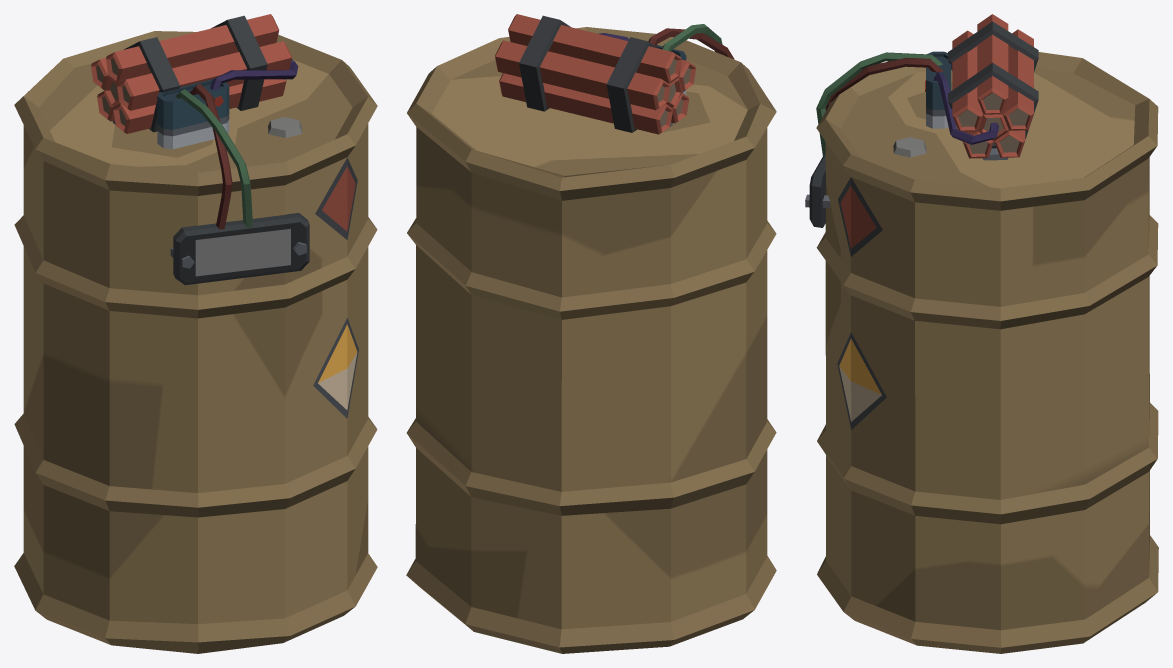
File: SM_Prop_Bomb_Large_01.fbx
3 views of the same model, side by side, from view 1: azimuth 30°, elevation 25°; view 2: azimuth 150°, elevation 25°; view 3: azimuth 270°, elevation 25° (orthographic). The views are drawn at different scales.
Visible parts, largest first — view 1: SM_Prop_Bomb_Large_01; view 2: SM_Prop_Bomb_Large_01; view 3: SM_Prop_Bomb_Large_01.
Boxes of the visible parts, bbox=[...] form: SM_Prop_Bomb_Large_01: bbox=[14, 14, 377, 653]; SM_Prop_Bomb_Large_01: bbox=[406, 14, 776, 653]; SM_Prop_Bomb_Large_01: bbox=[805, 14, 1158, 653].
Bounding box in the file's own units: 72.61 × 120 × 71.75.
